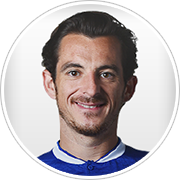face: (39, 45, 139, 127)
